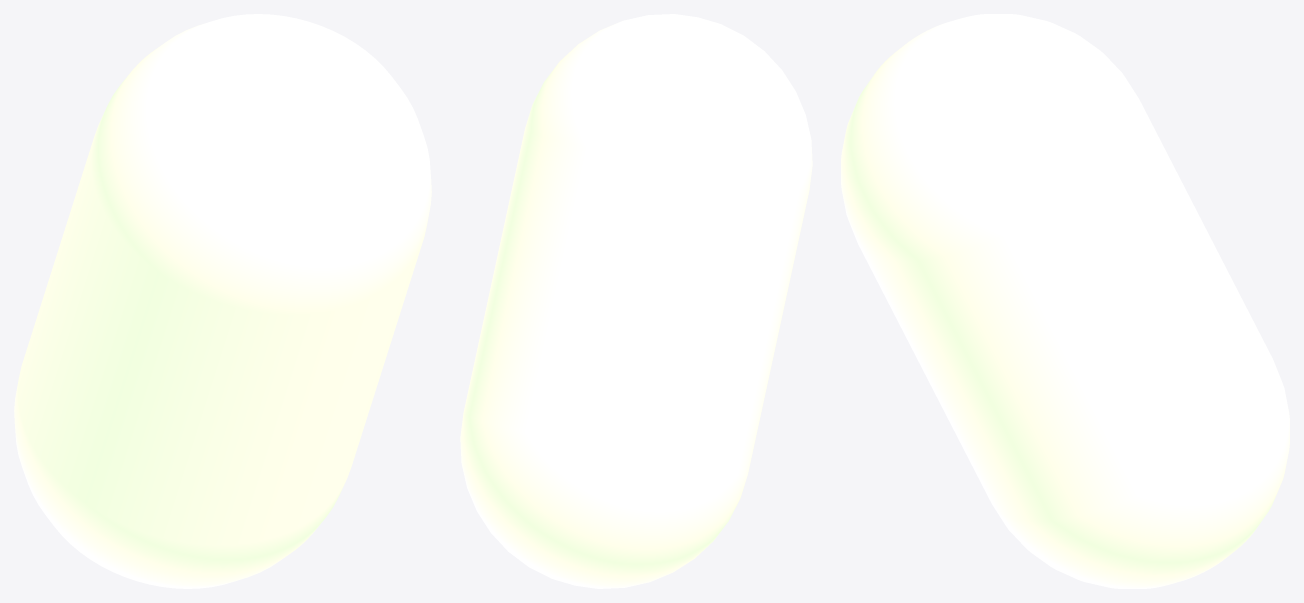
The model's file is item_modifier_health.glb.
3 views of the same model, side by side, from view 1: azimuth 30°, elevation 25°; view 2: azimuth 150°, elevation 25°; view 3: azimuth 270°, elevation 25° (orthographic). The views are drawn at different scales.
Parts seen in each view (by area): view 1: MeshInstance3D; view 2: MeshInstance3D; view 3: MeshInstance3D.
Part boxes in pixels (x1,y1,x2,y2): MeshInstance3D: (14,14,431,588); MeshInstance3D: (460,14,812,588); MeshInstance3D: (841,14,1289,588).
Size of the model in its own units: 0.5 by 0.9513 by 0.7094.
